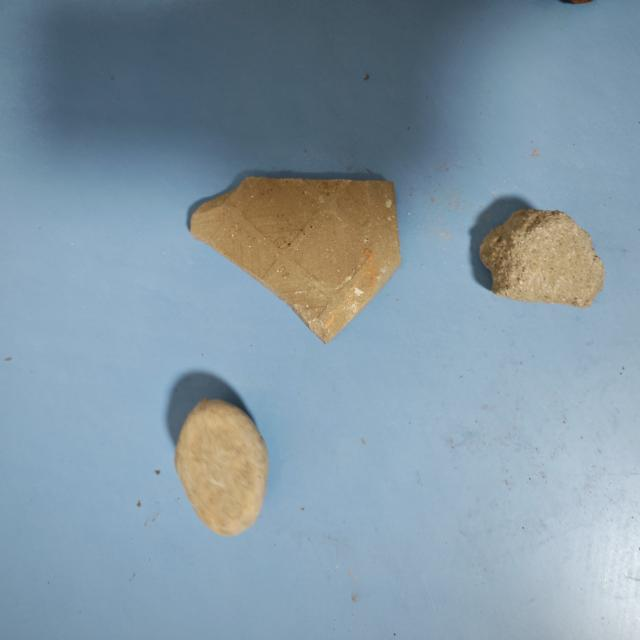-Other waste - brick-: (482, 207, 603, 303)
-Other waste - ceramic-: (186, 170, 410, 344)
-Other waste - pebble-: (173, 396, 265, 538)
